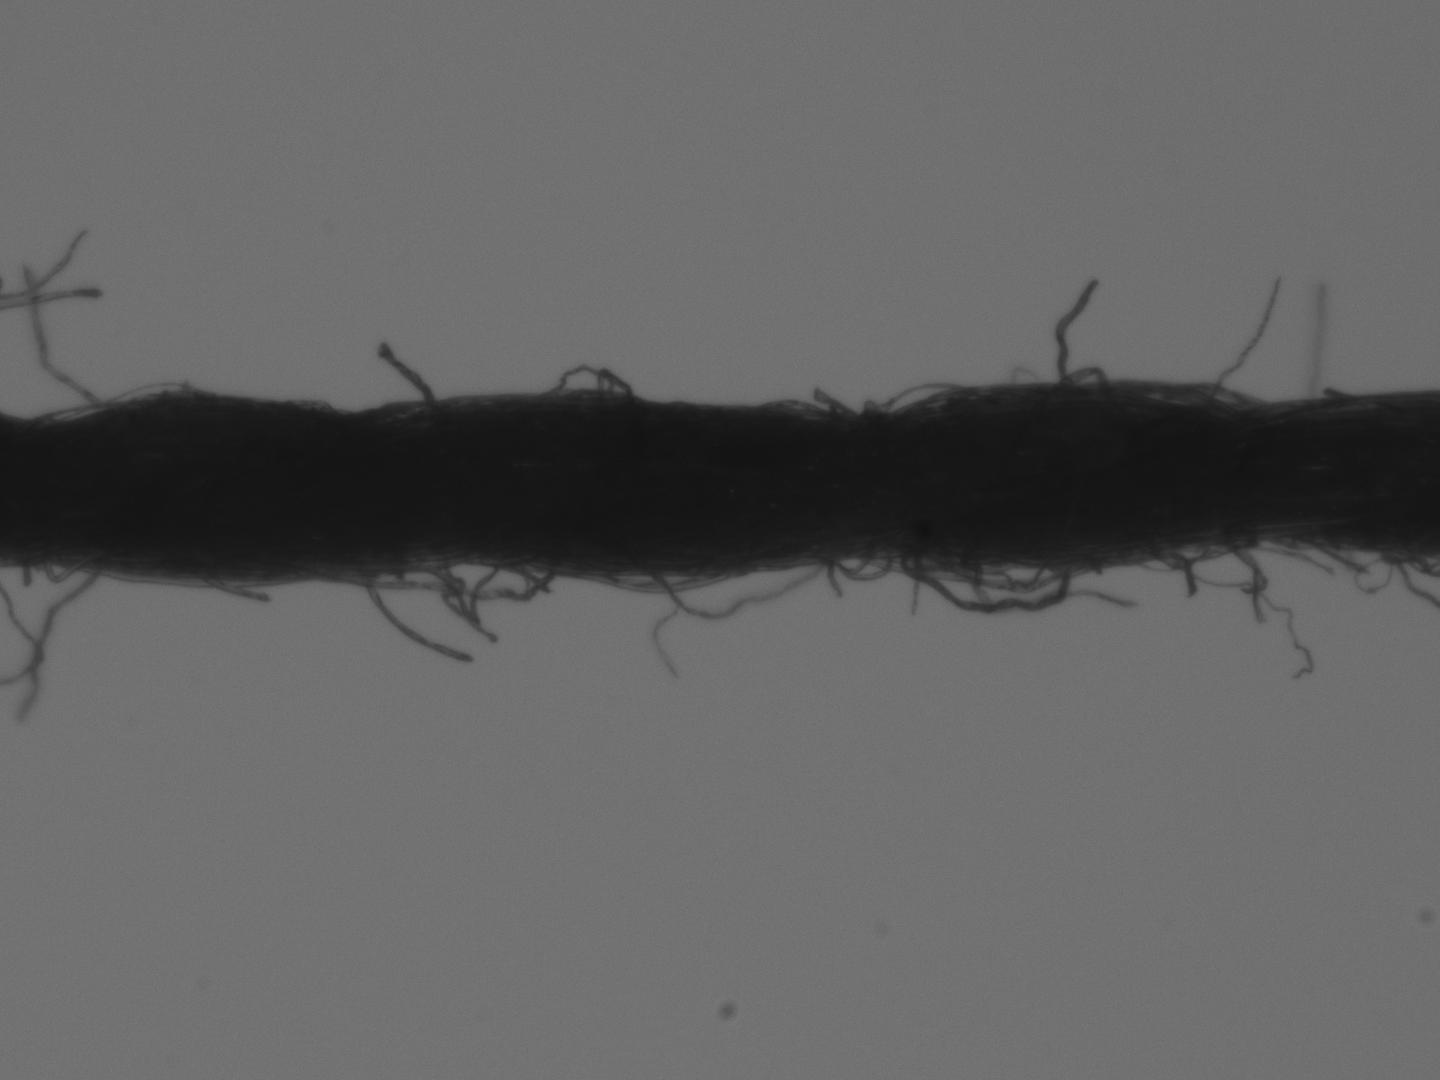loop_fiber: (330, 556, 554, 626), (633, 555, 829, 624), (898, 547, 1073, 617), (857, 376, 981, 414), (534, 361, 633, 397), (1159, 377, 1260, 411), (1154, 539, 1261, 571), (820, 549, 891, 587), (1044, 358, 1116, 396), (29, 557, 100, 588)
protruding_fiber: (357, 569, 481, 673), (1049, 268, 1104, 386)
